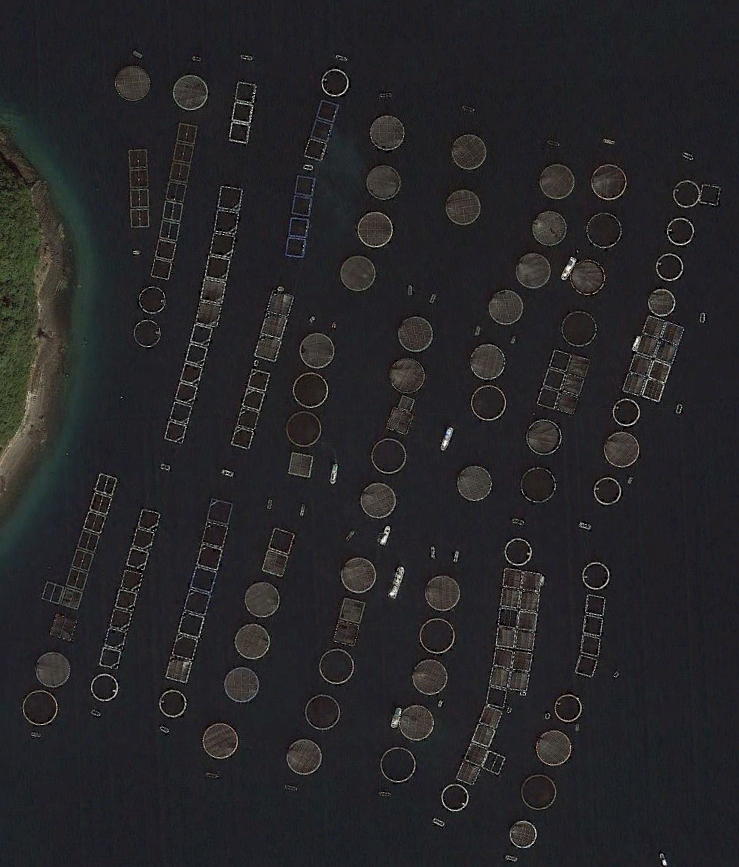circle: (26, 639, 78, 694), (218, 653, 267, 708), (192, 714, 245, 763), (282, 367, 339, 411), (332, 550, 382, 600), (371, 738, 422, 786), (352, 473, 405, 519), (597, 424, 646, 473), (230, 612, 278, 662), (406, 653, 456, 701), (238, 574, 287, 622), (280, 735, 329, 783), (277, 405, 328, 451), (382, 346, 430, 394), (414, 611, 462, 659), (467, 373, 516, 420), (335, 244, 380, 295), (17, 683, 64, 731), (452, 459, 499, 507), (109, 59, 155, 107), (395, 698, 441, 746), (393, 309, 439, 356), (439, 183, 485, 229), (351, 207, 398, 252), (589, 155, 634, 202), (522, 412, 566, 460), (364, 110, 410, 155), (466, 336, 512, 381), (557, 306, 603, 351), (514, 767, 560, 812), (364, 434, 413, 476), (447, 126, 492, 171), (581, 210, 629, 252), (485, 283, 530, 327), (531, 722, 575, 767), (315, 643, 362, 685), (293, 327, 337, 371), (299, 688, 345, 730), (563, 256, 613, 294), (361, 160, 405, 203), (538, 155, 578, 202), (513, 248, 553, 294), (520, 460, 558, 506), (169, 71, 210, 112), (423, 568, 462, 611), (530, 208, 570, 248), (434, 778, 473, 819), (153, 685, 195, 722), (550, 685, 589, 724), (135, 277, 173, 317), (648, 246, 690, 282), (659, 214, 704, 247), (588, 470, 627, 508), (315, 63, 355, 100), (640, 283, 681, 319), (499, 533, 537, 569), (85, 668, 123, 703), (506, 814, 541, 852), (130, 314, 167, 349), (581, 556, 614, 593), (612, 391, 644, 428), (673, 177, 704, 209)
ship: (386, 561, 406, 607), (558, 253, 579, 285), (437, 423, 456, 455), (388, 700, 404, 731), (377, 521, 393, 547), (326, 460, 340, 485)
square: (201, 226, 241, 263), (169, 606, 210, 640), (333, 587, 370, 624), (626, 330, 667, 363), (615, 363, 652, 399), (207, 206, 245, 241), (194, 273, 232, 308), (44, 611, 82, 646), (177, 584, 214, 619), (187, 296, 225, 330), (619, 345, 657, 379), (286, 444, 319, 483), (250, 330, 286, 365), (213, 181, 249, 215), (192, 539, 226, 575), (324, 619, 362, 651), (198, 251, 233, 285), (265, 521, 299, 556), (381, 403, 416, 437), (186, 562, 219, 596), (164, 654, 197, 687), (633, 308, 668, 339), (172, 377, 200, 415), (202, 495, 233, 529), (486, 619, 520, 650), (196, 520, 231, 550), (260, 544, 292, 576), (467, 719, 501, 749), (277, 234, 312, 263), (269, 283, 296, 320), (552, 386, 579, 423), (488, 644, 520, 675), (286, 189, 316, 222), (98, 623, 131, 653), (260, 308, 290, 341), (580, 590, 610, 623), (169, 632, 200, 663), (224, 96, 257, 125), (160, 416, 188, 450), (503, 665, 531, 699), (529, 380, 560, 410), (484, 661, 516, 690), (187, 319, 215, 352), (479, 683, 512, 711), (653, 336, 680, 370), (560, 369, 589, 400), (462, 739, 493, 768), (175, 360, 203, 392), (134, 503, 162, 535), (232, 404, 264, 432), (105, 604, 134, 634), (227, 423, 257, 452), (508, 646, 537, 676), (454, 756, 483, 786), (231, 77, 259, 108), (172, 115, 200, 146), (222, 119, 254, 146), (564, 350, 596, 377), (639, 373, 665, 406), (519, 566, 552, 592), (493, 585, 526, 611), (117, 565, 146, 594), (110, 586, 139, 615), (238, 384, 267, 413), (538, 363, 567, 392), (495, 563, 524, 592), (476, 701, 505, 730), (516, 586, 544, 616), (167, 396, 193, 428), (481, 747, 507, 779), (282, 215, 315, 240), (306, 115, 335, 143), (181, 342, 210, 370), (80, 507, 108, 536), (74, 527, 103, 555), (37, 577, 65, 606), (92, 468, 119, 498), (57, 586, 83, 617), (93, 644, 124, 670), (657, 320, 690, 344), (125, 165, 153, 193), (513, 607, 541, 635), (572, 654, 601, 681), (122, 145, 152, 171), (157, 198, 188, 223), (491, 604, 522, 629), (291, 170, 319, 197), (130, 525, 157, 553), (123, 544, 150, 572), (245, 367, 273, 394), (509, 627, 537, 654), (547, 343, 572, 373), (314, 96, 341, 123), (126, 204, 153, 231), (581, 613, 608, 640), (165, 160, 193, 186), (86, 490, 114, 516), (646, 358, 672, 386), (69, 545, 94, 574), (300, 138, 330, 162), (169, 139, 197, 164), (576, 633, 604, 658), (152, 236, 179, 261), (125, 187, 154, 210), (156, 218, 183, 242), (63, 567, 90, 591), (164, 180, 189, 204), (150, 256, 175, 279), (395, 391, 419, 413)
